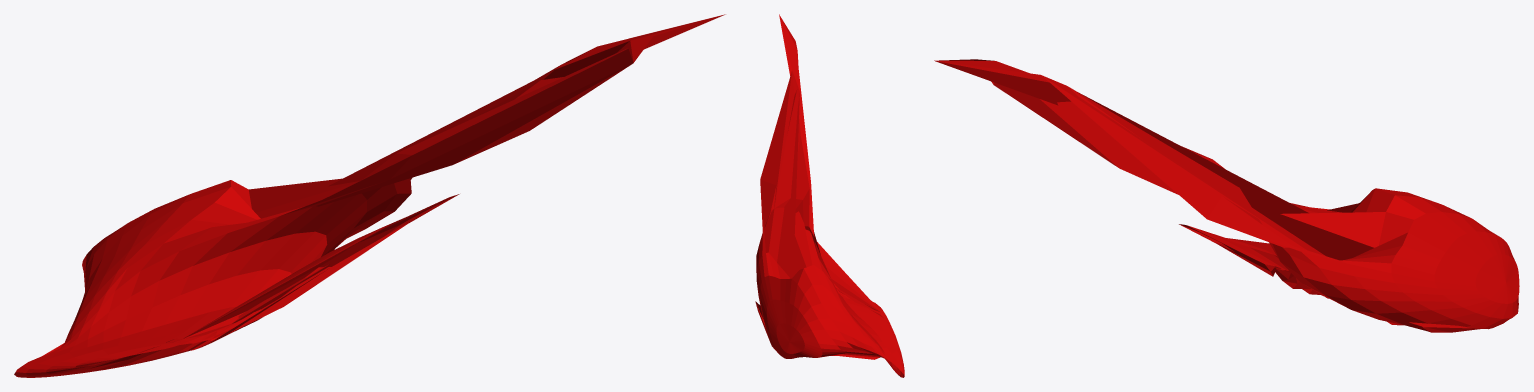
Rendered from blob.obj.
The picture shows the model from 3 angles, left to right: view 1: azimuth 30°, elevation 25°; view 2: azimuth 150°, elevation 25°; view 3: azimuth 270°, elevation 25°; orthographic projection. The views are drawn at different scales.
Parts seen in each view (by area): view 1: Sphere; view 2: Sphere; view 3: Sphere.
Boxes of the visible parts, bbox=[...] form: Sphere: bbox=[14, 14, 725, 377]; Sphere: bbox=[755, 14, 904, 377]; Sphere: bbox=[934, 59, 1519, 332].
Size of the model in its own units: 0.0926 by 0.0776 by 0.0953.
